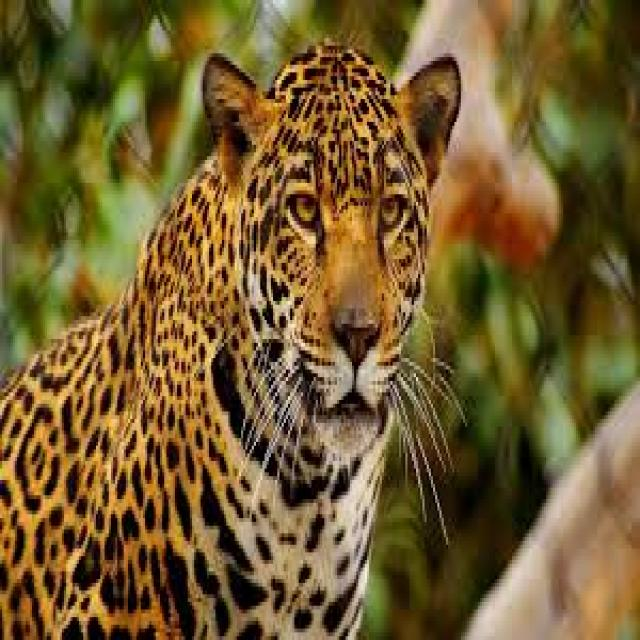Jaguar: (0, 38, 442, 636)
